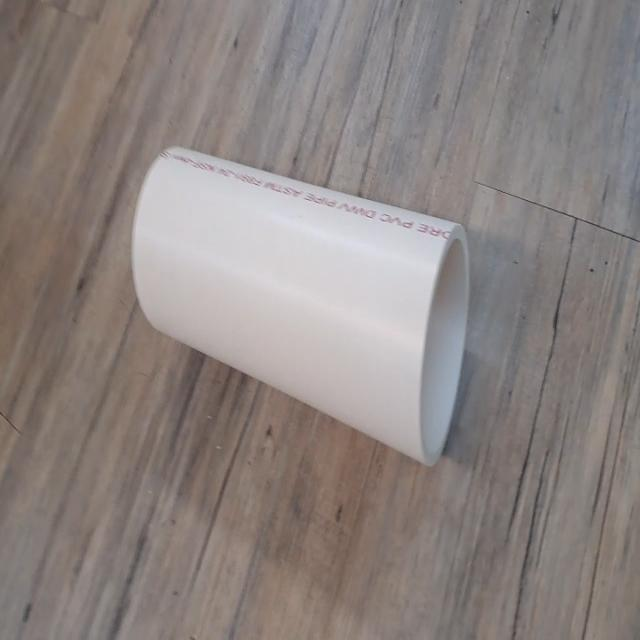CORAL: (129, 137, 475, 480)
